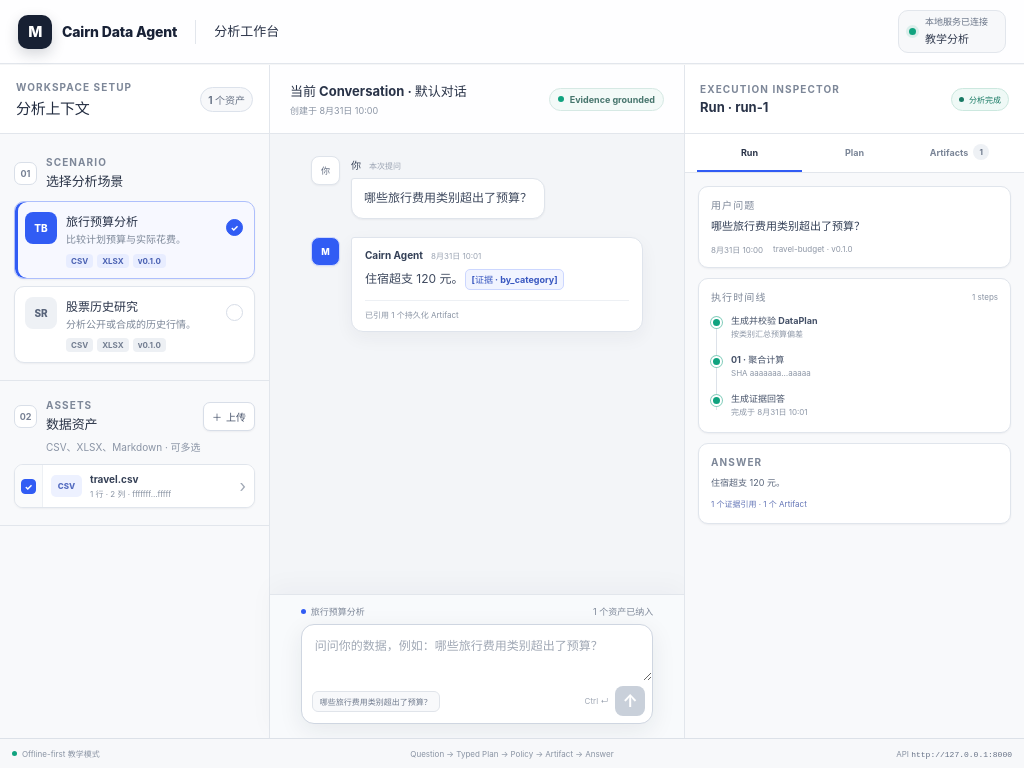
Scenario: App workbench › clears asset selection when switching Scenarios with the same file type
This screenshot has width=1024, height=768.
Expected: the checkbox named "选择 travel.csv" is checked, [15,465,43,507]
Click the radio button labelled "SR 股票历史研究 分析公开或合成的历史行情。 CSV XLSX v0.1.0 ✓" at (134, 324), box [14,286,255,363]
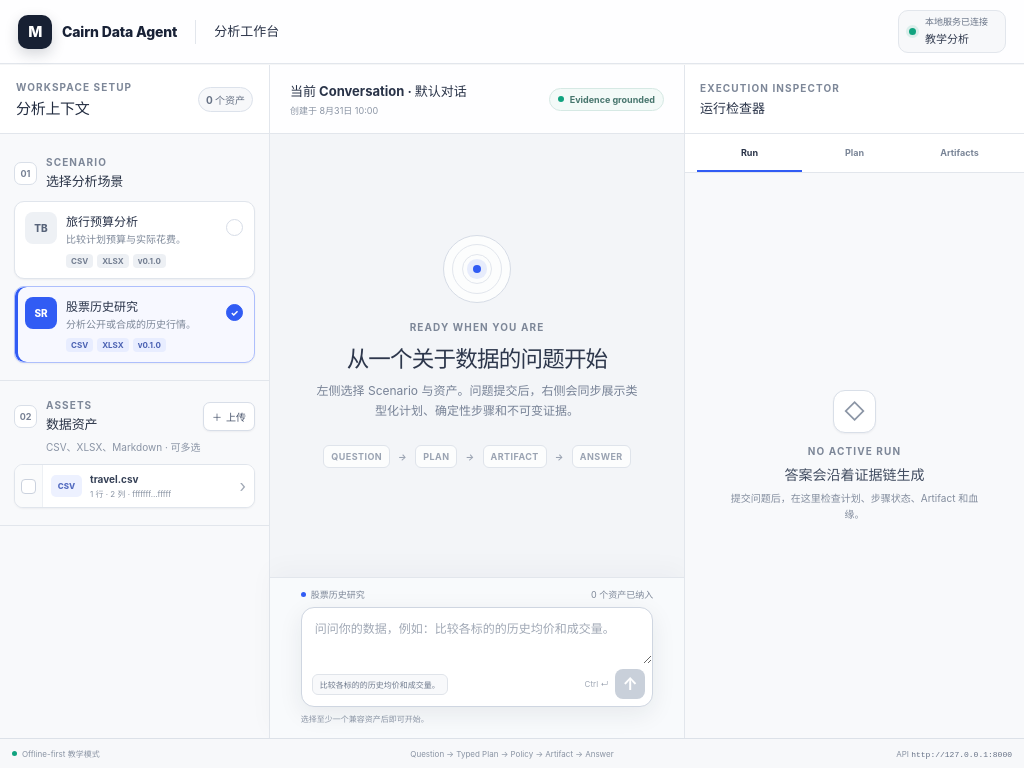
Expected: the checkbox named "选择 travel.csv" is not checked, [15,465,43,507]
Expected: the text "0 个资产已纳入" is shown, [591,588,653,601]
Expected: the heading "答案会沿着证据链生成" is shown, [784,464,924,484]
